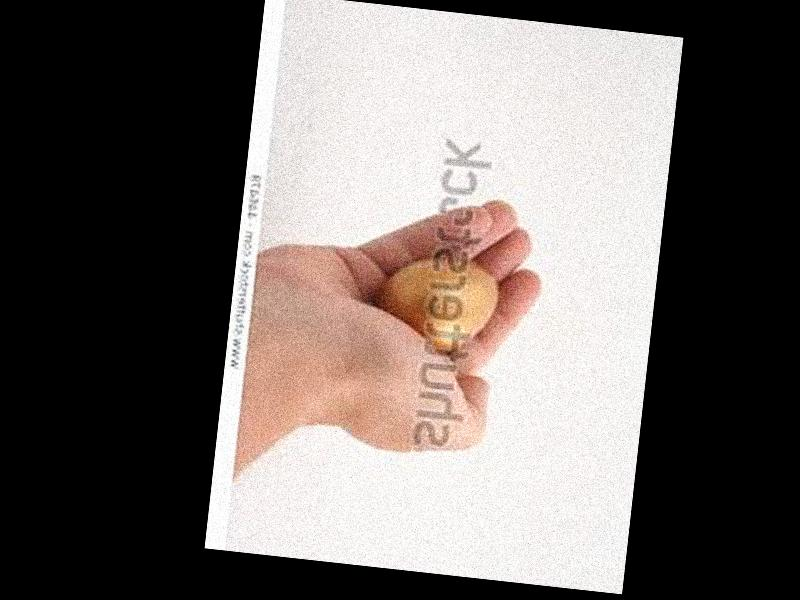Eggs: (377, 252, 500, 352)
